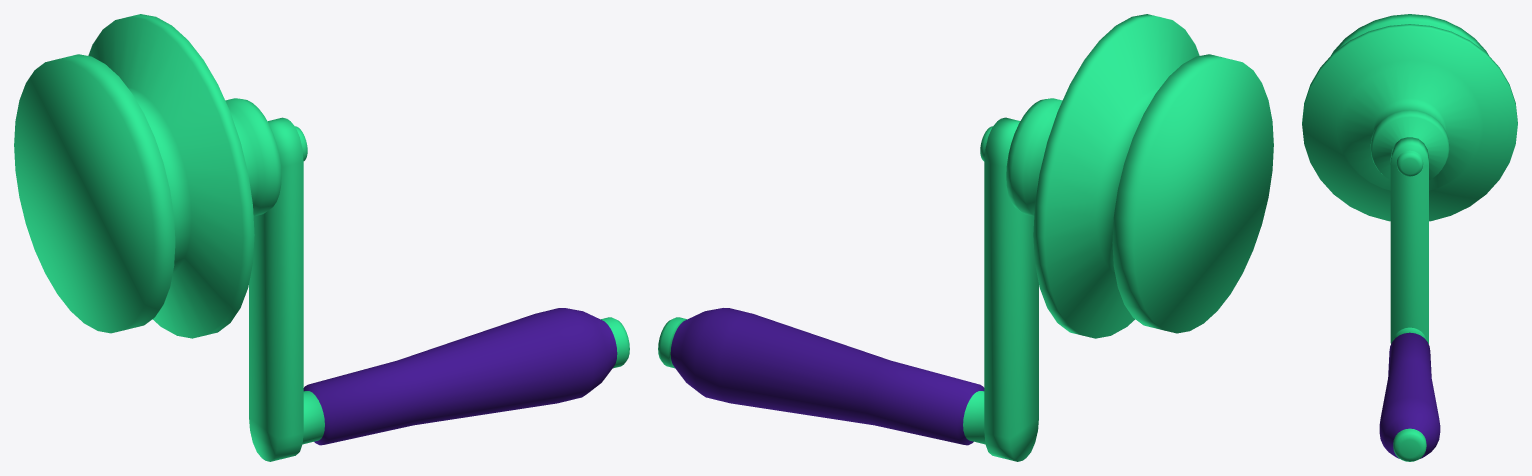
File: manivela_DeLaCaja_low.fbx
3 views of the same model, side by side, from view 1: azimuth 30°, elevation 25°; view 2: azimuth 150°, elevation 25°; view 3: azimuth 270°, elevation 25° (orthographic). The views are drawn at different scales.
Parts seen in each view (by area): view 1: m_rotatingThingy_low, m_handle_low; view 2: m_rotatingThingy_low, m_handle_low; view 3: m_rotatingThingy_low, m_handle_low.
Boxes of the visible parts, x1,y1,x2,y2 form: m_rotatingThingy_low: [14, 14, 307, 338]; m_handle_low: [249, 117, 629, 461]; m_rotatingThingy_low: [980, 14, 1273, 338]; m_handle_low: [658, 117, 1038, 461]; m_rotatingThingy_low: [1302, 14, 1517, 221]; m_handle_low: [1379, 137, 1440, 461].
Bounding box in the file's own units: 726 × 603 × 386.
